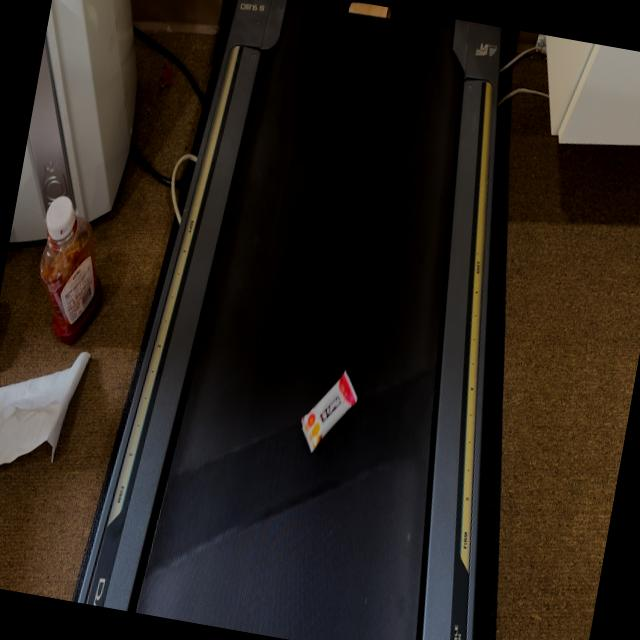Trash: (291, 360, 364, 460)
